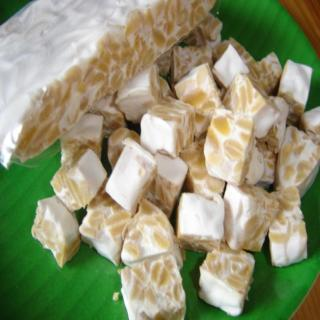Tempe: (120, 253, 187, 320), (197, 243, 256, 318), (105, 137, 158, 214), (204, 109, 255, 187), (32, 196, 82, 269)
